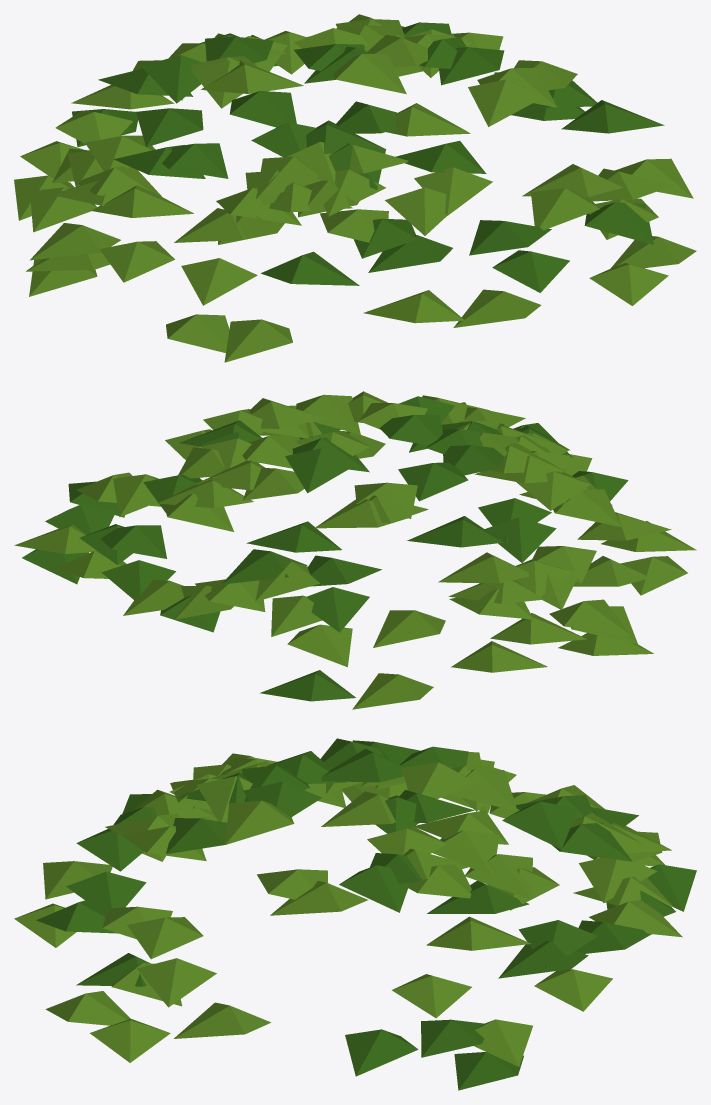
Rendered from bed_shrub_1.obj.
The picture shows the model from 3 angles, top to bottom: view 1: azimuth 30°, elevation 25°; view 2: azimuth 150°, elevation 25°; view 3: azimuth 270°, elevation 25°; orthographic projection. The views are drawn at different scales.
Parts seen in each view (by area): view 1: bed_shrub_1; view 2: bed_shrub_1; view 3: bed_shrub_1.
Part boxes in pixels (x1,y1,x2,y2): bed_shrub_1: (14,14,696,362); bed_shrub_1: (14,391,696,709); bed_shrub_1: (14,738,696,1090).
Bounding box in the file's own units: 3.64 × 0.8812 × 3.36.
